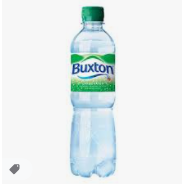Bottle: (69, 7, 118, 175)
